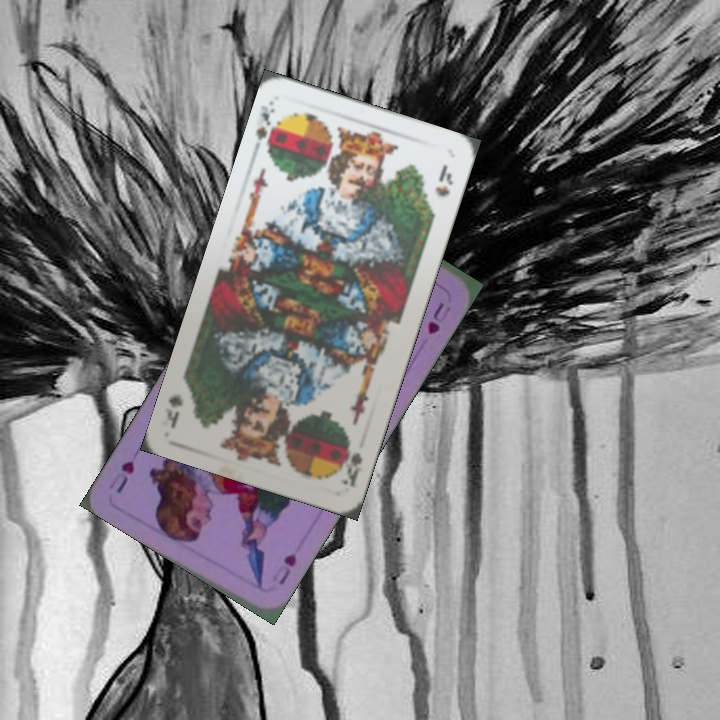HU: (266, 549, 300, 588)
SK: (249, 97, 283, 159), (336, 436, 365, 490)
